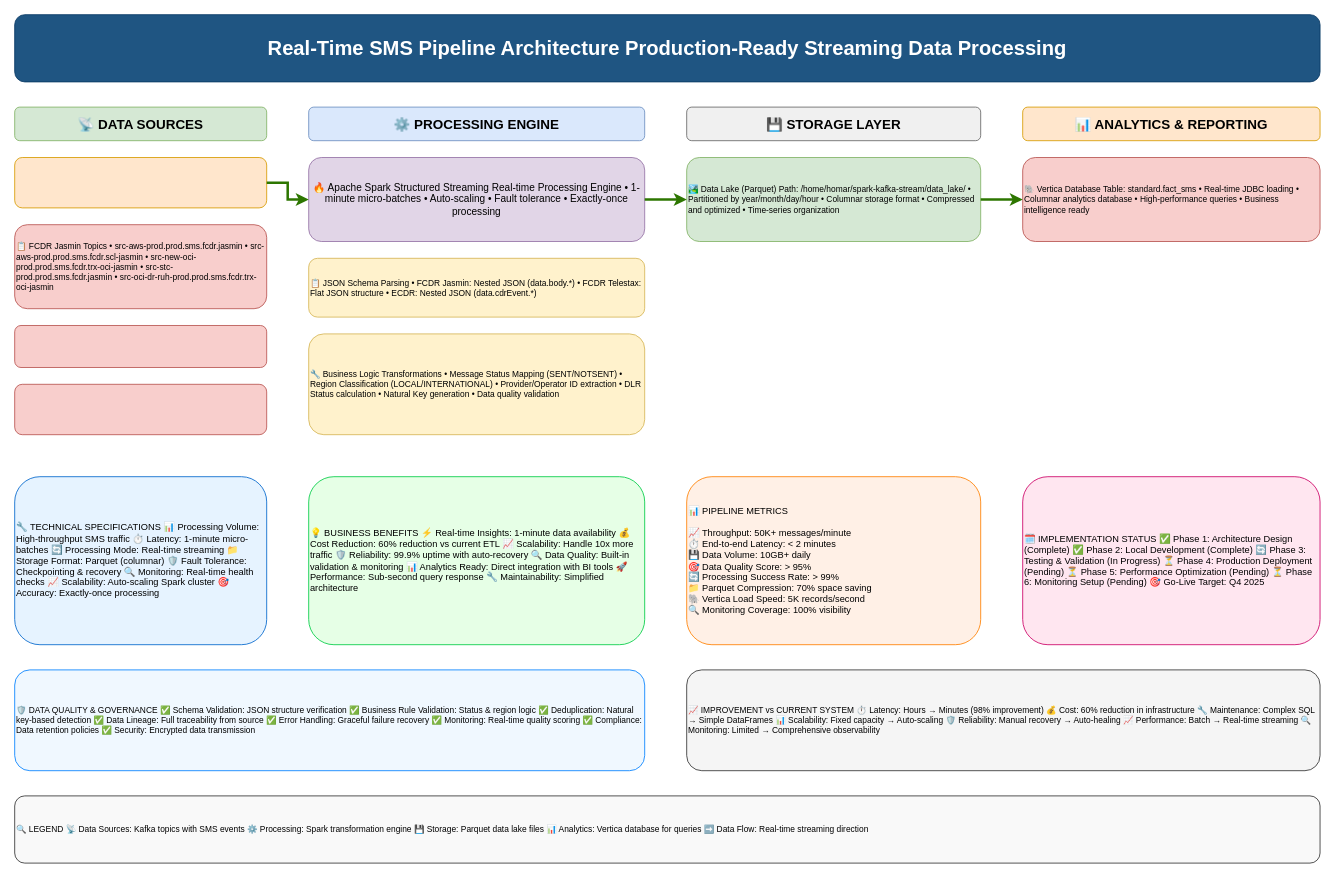
The diagram is 1335 pixels wide and 878 high, and some of its shapes have lost their labels. Each missing label, with the box of its shape:
📋 ECDR Topics • prod.sms.ecdr.el • src-aws-prod.prod.sms.ecdr.el: (14, 383, 267, 435)
📋 FCDR Telestax Topic • oci.prod.sms.fcdr.telestax: (14, 325, 267, 368)
🔥 Kafka Cluster strimzi-kafka-cluster-oci-prod-2: (14, 157, 267, 208)
